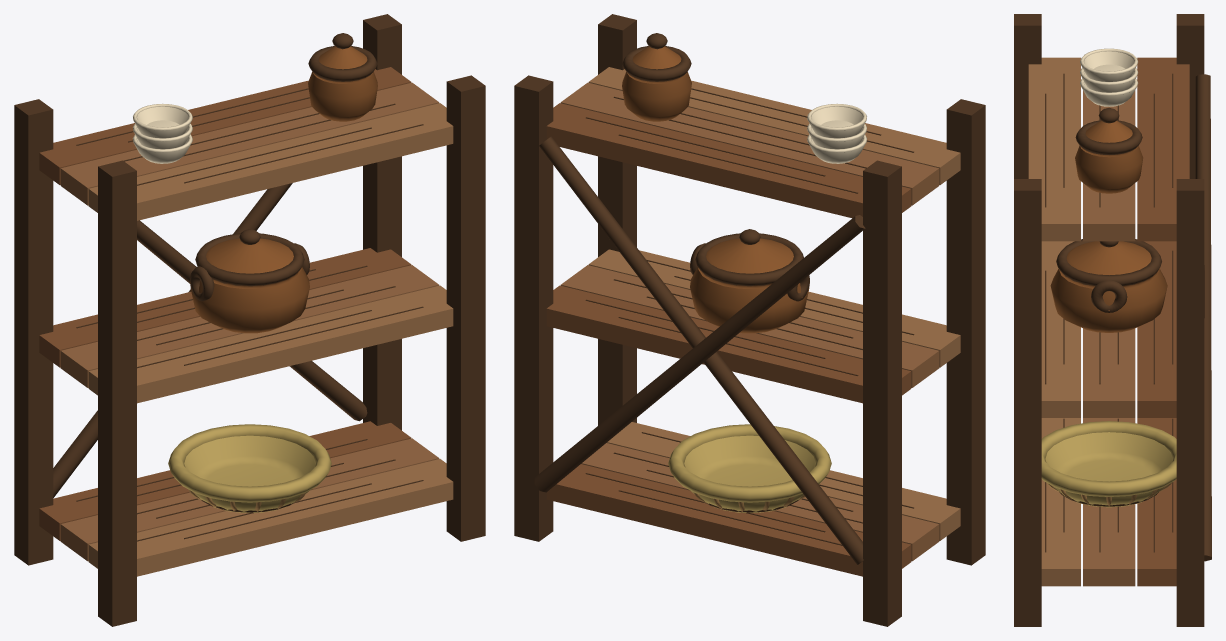
Rendered from LV_KE_BEP_GO_01.glb.
3 renders of one model, left to right at view 1: azimuth 30°, elevation 25°; view 2: azimuth 150°, elevation 25°; view 3: azimuth 270°, elevation 25°, orthographic. The views are drawn at different scales.
Visible parts, largest first — view 1: LV_KE_BEP_GO_01-surface-50351f, LV_KE_BEP_GO_01-surface-9d7048, LV_KE_BEP_GO_01-surface-936540, LV_KE_BEP_GO_01-surface-825331, LV_KE_BEP_GO_01-surface-b59b56, LV_KE_BEP_GO_01-surface-855127, LV_KE_BEP_GO_01-surface-ead9b8; view 2: LV_KE_BEP_GO_01-surface-50351f, LV_KE_BEP_GO_01-surface-825331, LV_KE_BEP_GO_01-surface-936540, LV_KE_BEP_GO_01-surface-9d7048, LV_KE_BEP_GO_01-surface-855127, LV_KE_BEP_GO_01-surface-b59b56, LV_KE_BEP_GO_01-surface-ead9b8; view 3: LV_KE_BEP_GO_01-surface-50351f, LV_KE_BEP_GO_01-surface-9d7048, LV_KE_BEP_GO_01-surface-825331, LV_KE_BEP_GO_01-surface-936540, LV_KE_BEP_GO_01-surface-855127, LV_KE_BEP_GO_01-surface-b59b56, LV_KE_BEP_GO_01-surface-ead9b8, LV_KE_BEP_GO_01-surface-b68850.
Boxes of the visible parts, bbox=[...] form: LV_KE_BEP_GO_01-surface-50351f: bbox=[14, 14, 485, 626]; LV_KE_BEP_GO_01-surface-9d7048: bbox=[88, 103, 453, 576]; LV_KE_BEP_GO_01-surface-936540: bbox=[60, 82, 439, 561]; LV_KE_BEP_GO_01-surface-825331: bbox=[39, 67, 411, 540]; LV_KE_BEP_GO_01-surface-b59b56: bbox=[168, 424, 331, 512]; LV_KE_BEP_GO_01-surface-855127: bbox=[190, 46, 377, 333]; LV_KE_BEP_GO_01-surface-ead9b8: bbox=[132, 103, 192, 163]; LV_KE_BEP_GO_01-surface-50351f: bbox=[514, 14, 985, 626]; LV_KE_BEP_GO_01-surface-825331: bbox=[546, 103, 911, 576]; LV_KE_BEP_GO_01-surface-936540: bbox=[560, 82, 939, 561]; LV_KE_BEP_GO_01-surface-9d7048: bbox=[588, 67, 960, 540]; LV_KE_BEP_GO_01-surface-855127: bbox=[622, 46, 809, 333]; LV_KE_BEP_GO_01-surface-b59b56: bbox=[668, 424, 831, 512]; LV_KE_BEP_GO_01-surface-ead9b8: bbox=[807, 103, 867, 163]; LV_KE_BEP_GO_01-surface-50351f: bbox=[1014, 14, 1211, 626]; LV_KE_BEP_GO_01-surface-9d7048: bbox=[1028, 57, 1080, 586]; LV_KE_BEP_GO_01-surface-825331: bbox=[1137, 57, 1189, 586]; LV_KE_BEP_GO_01-surface-936540: bbox=[1083, 90, 1135, 586]; LV_KE_BEP_GO_01-surface-855127: bbox=[1050, 120, 1167, 332]; LV_KE_BEP_GO_01-surface-b59b56: bbox=[1041, 421, 1176, 507]; LV_KE_BEP_GO_01-surface-ead9b8: bbox=[1080, 48, 1138, 106]; LV_KE_BEP_GO_01-surface-b68850: bbox=[1046, 482, 1171, 506].
Bounding box in the file's own units: 1.28 × 1.61 × 0.6086.
